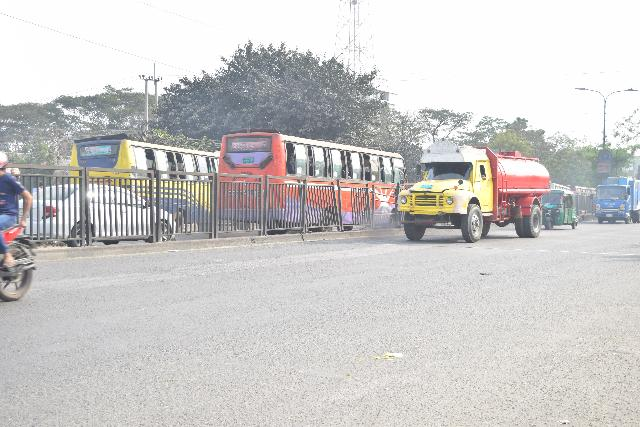bus: (207, 136, 406, 237), (66, 130, 230, 221)
motorcycle: (0, 196, 43, 308)
truck: (396, 137, 551, 247), (586, 171, 640, 225)
